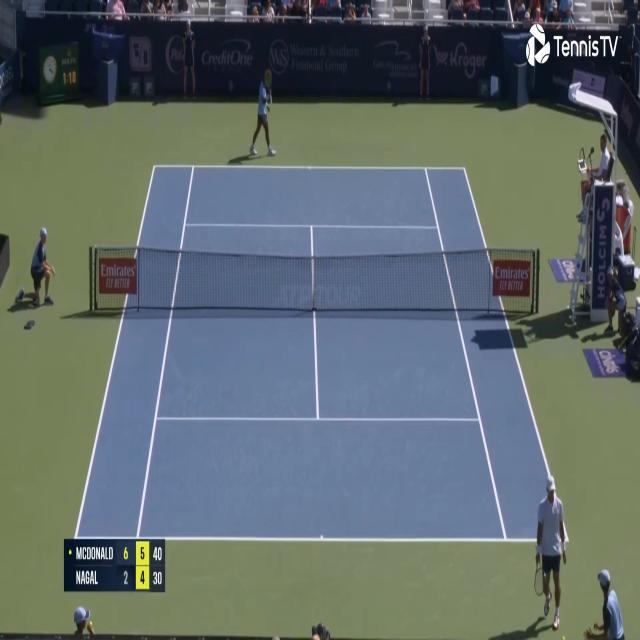tennis-player: (532, 475, 570, 638), (248, 66, 277, 159)
